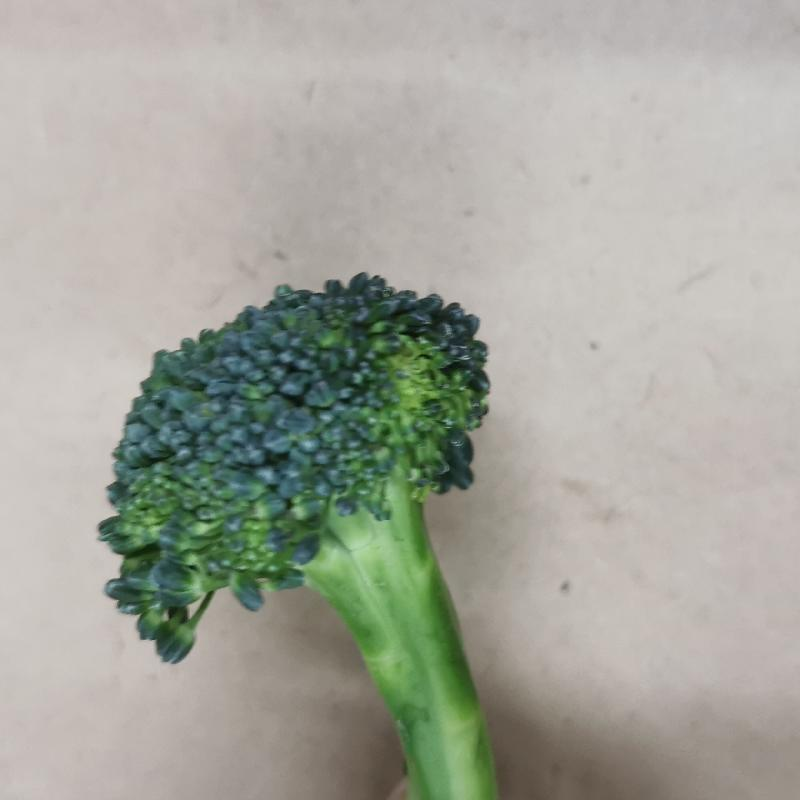broccoli: (106, 277, 540, 800)
